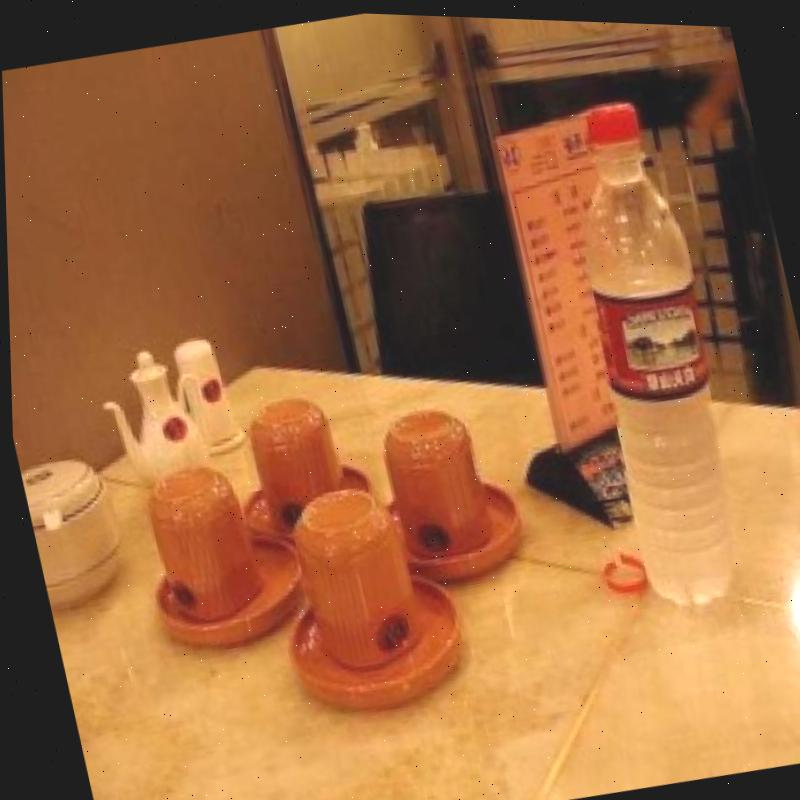botella: (540, 88, 767, 608)
